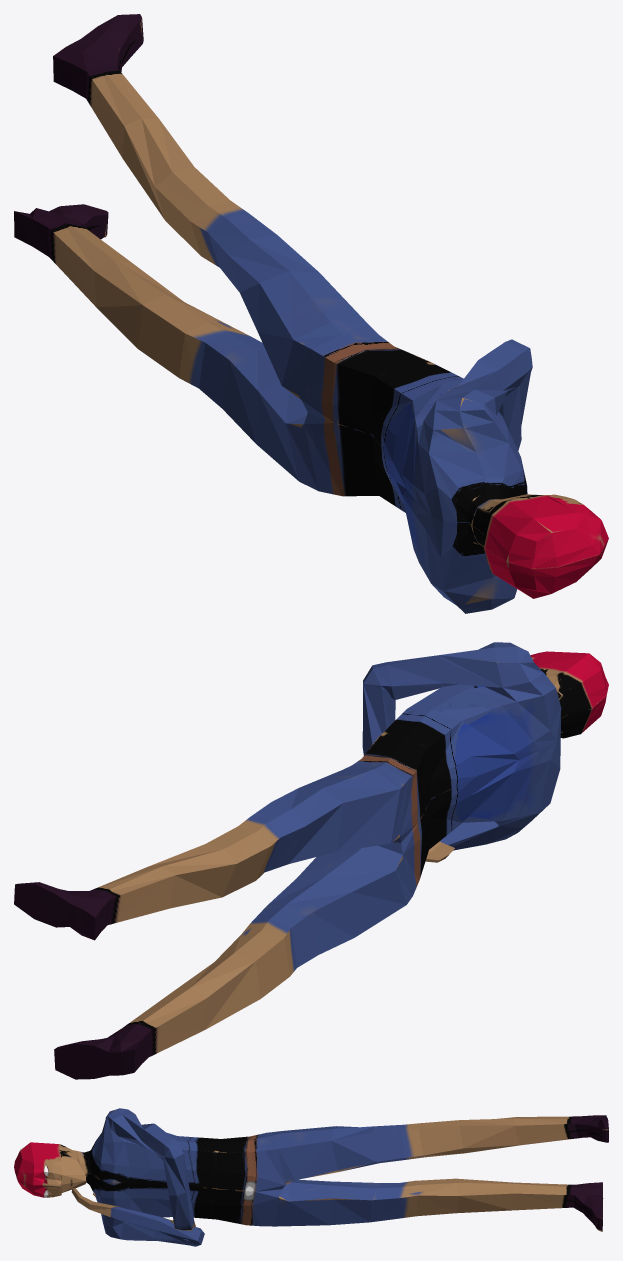
Rendered from mirrorman_000025.obj.
3 views of the same model, one above another, from view 1: azimuth 30°, elevation 25°; view 2: azimuth 150°, elevation 25°; view 3: azimuth 270°, elevation 25° (orthographic). The views are drawn at different scales.
Visible parts, largest first — view 1: mirrorman_Cube.001_Material.001; view 2: mirrorman_Cube.001_Material.001; view 3: mirrorman_Cube.001_Material.001.
Boxes of the visible parts, x1,y1,x2,y2 form: mirrorman_Cube.001_Material.001: [14, 14, 608, 613]; mirrorman_Cube.001_Material.001: [14, 642, 608, 1079]; mirrorman_Cube.001_Material.001: [14, 1108, 608, 1246].
Bounding box in the file's own units: 0.3381 × 0.4846 × 1.91.
